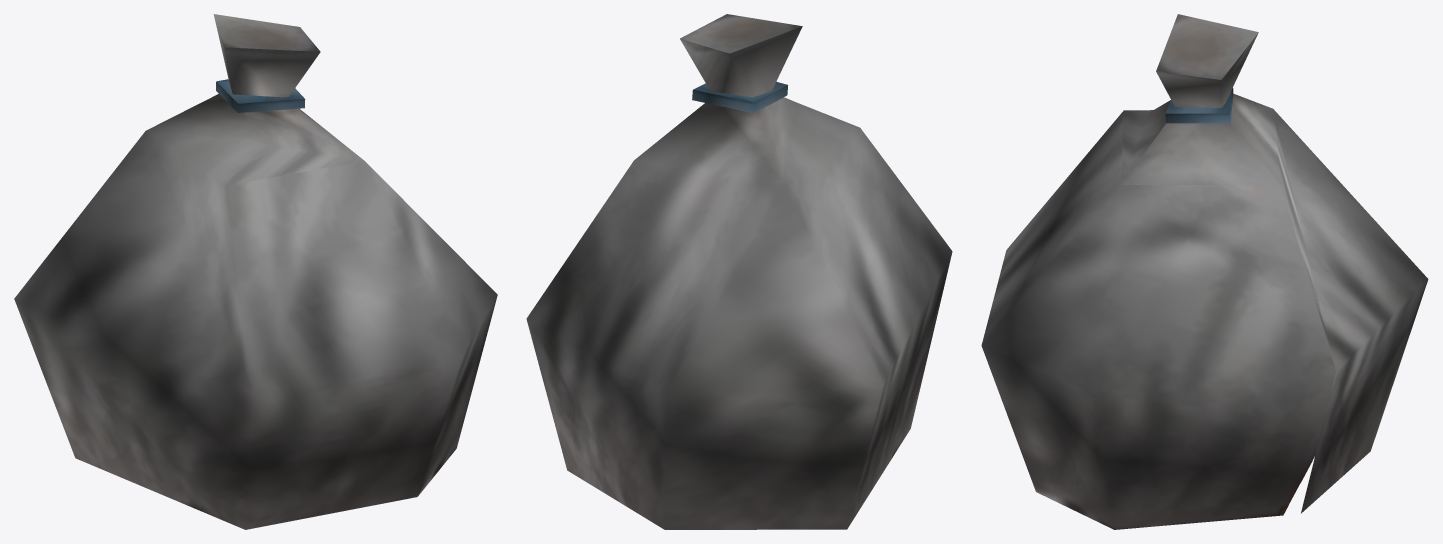
File: TrashBag.fbx
The picture shows the model from 3 angles, left to right: view 1: azimuth 30°, elevation 25°; view 2: azimuth 150°, elevation 25°; view 3: azimuth 270°, elevation 25°; orthographic projection. The views are drawn at different scales.
Parts seen in each view (by area): view 1: SM_Trash_Bag; view 2: SM_Trash_Bag; view 3: SM_Trash_Bag.
Part boxes in pixels (x1,y1,x2,y2): SM_Trash_Bag: (14,14,497,529); SM_Trash_Bag: (526,14,952,529); SM_Trash_Bag: (981,14,1428,529).
Bounding box in the file's own units: 0.5279 × 0.5743 × 0.5539.
